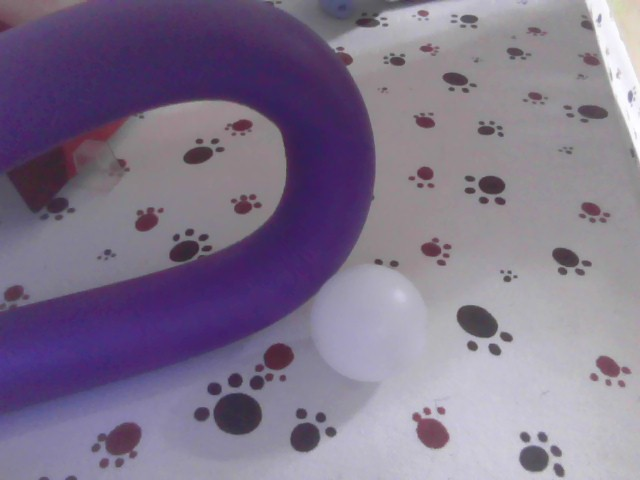ball: (311, 264, 429, 386)
